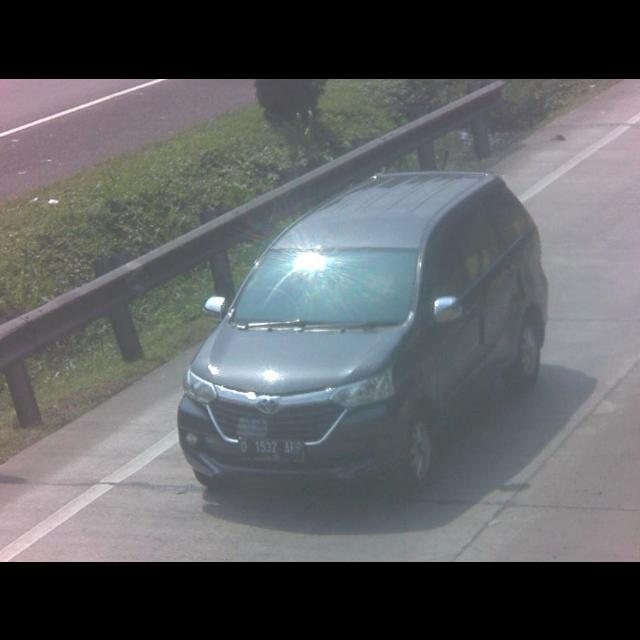plate: (240, 437, 306, 463)
